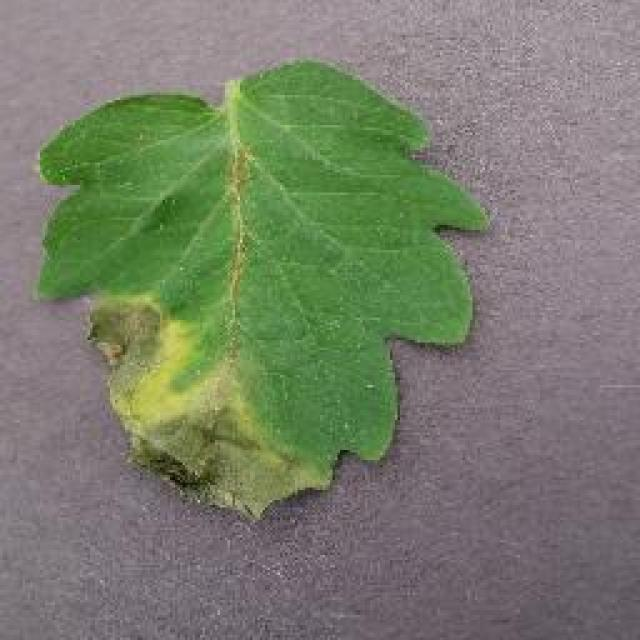Tomato Late Blight: (116, 224, 316, 578)
